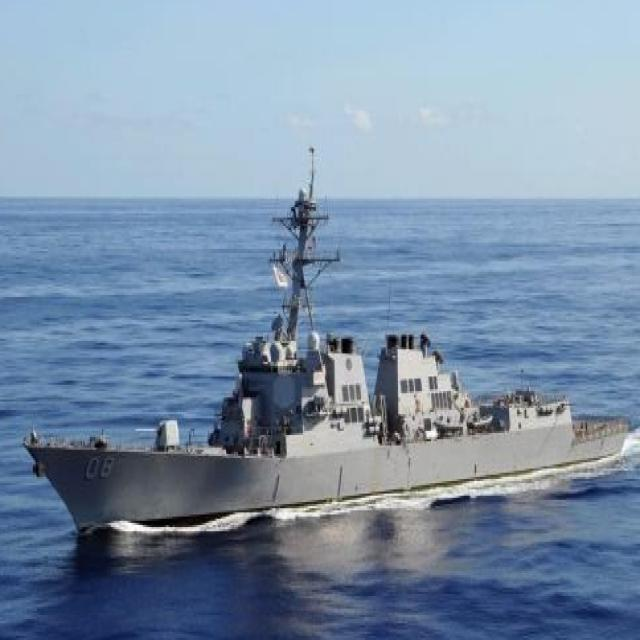navalvessels: (75, 175, 610, 551)
